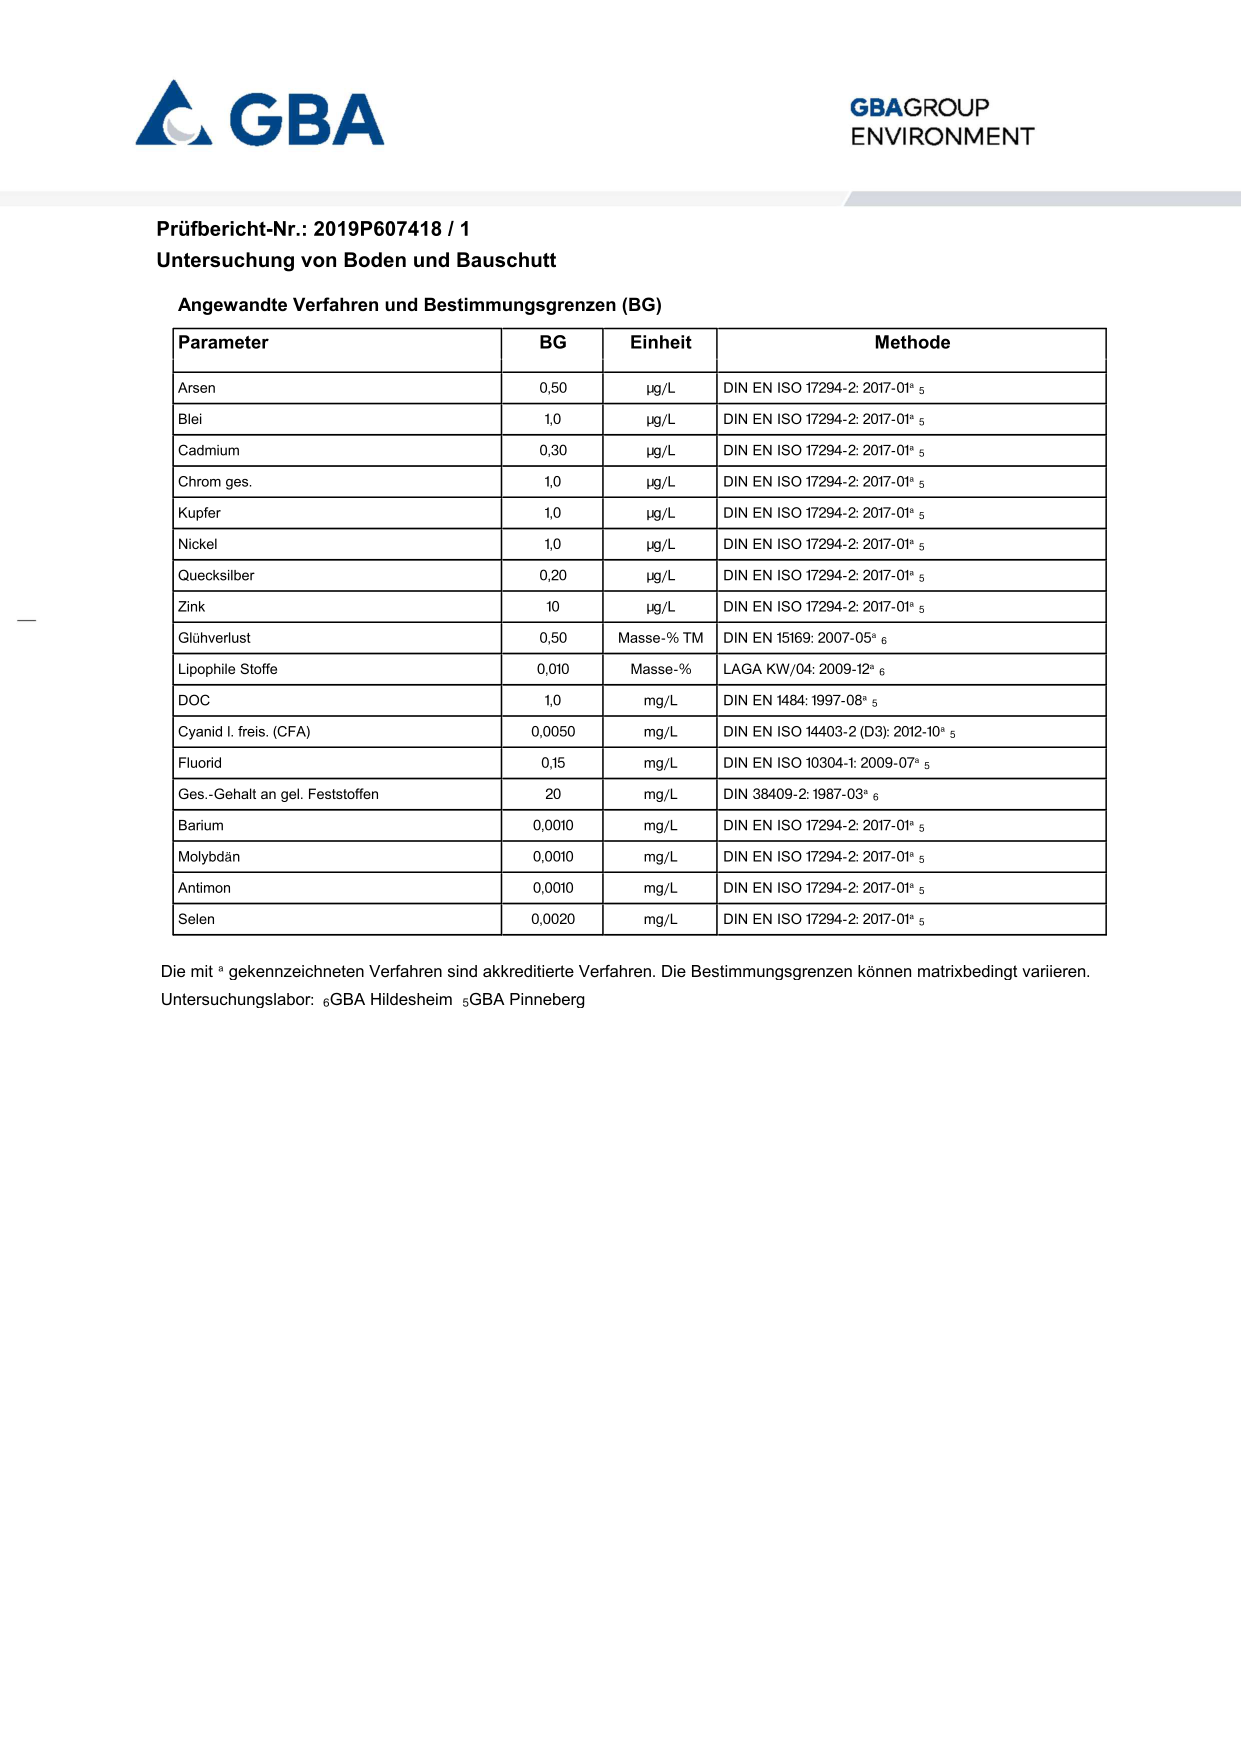table: (161, 320, 1128, 953)
